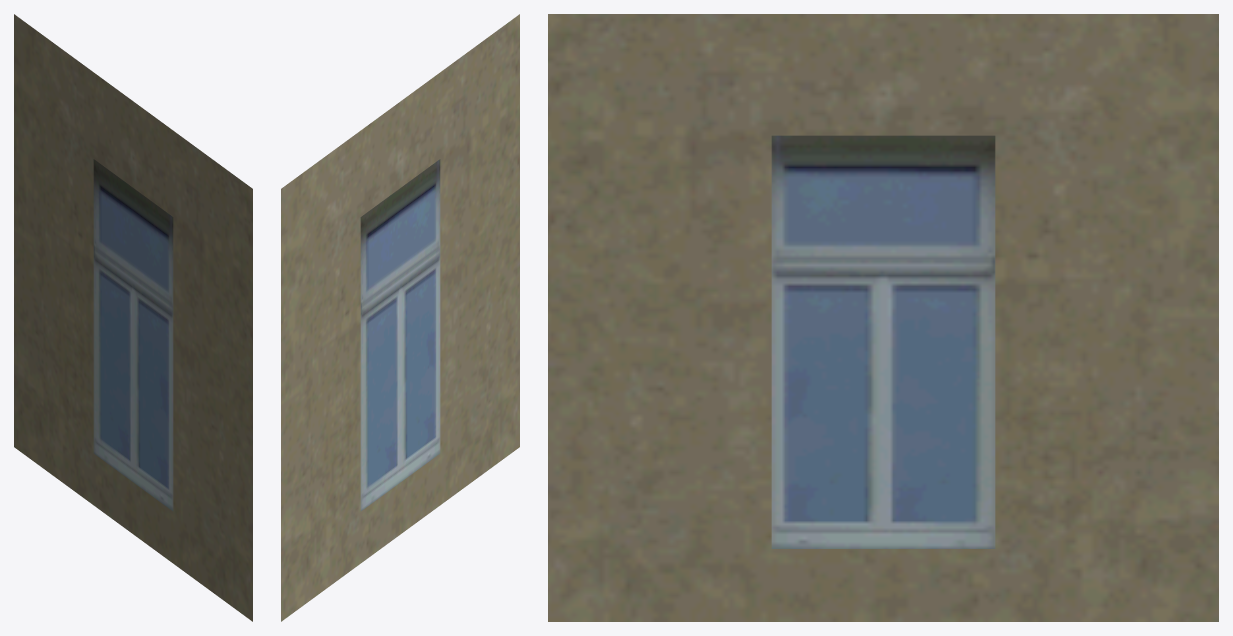
Rendered from Urban_StucoWallWindow1_Model.fbx.
The picture shows the model from 3 angles, left to right: view 1: azimuth 30°, elevation 25°; view 2: azimuth 150°, elevation 25°; view 3: azimuth 270°, elevation 25°; orthographic projection. The views are drawn at different scales.
Visible parts, largest first — view 1: Urban_StucoWallWindow1_Mesh; view 2: Urban_StucoWallWindow1_Mesh; view 3: Urban_StucoWallWindow1_Mesh.
Part boxes in pixels (box(x1,y1,x2,y2)): Urban_StucoWallWindow1_Mesh: box(14, 14, 252, 621); Urban_StucoWallWindow1_Mesh: box(281, 14, 519, 621); Urban_StucoWallWindow1_Mesh: box(548, 14, 1218, 621).
Size of the model in its own units: 0 by 2.1 by 2.1.
